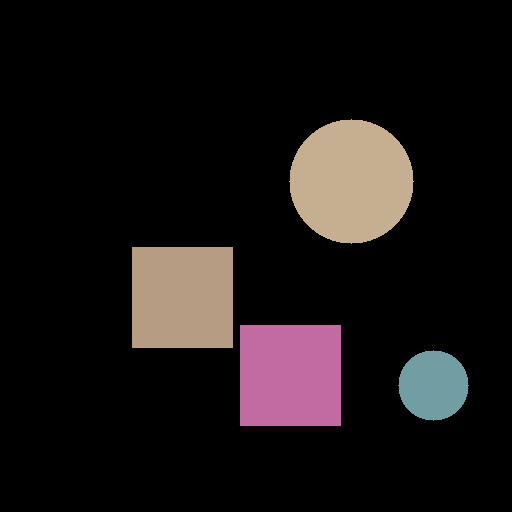circle: (289, 119, 413, 243), (398, 350, 468, 420)
square: (240, 325, 340, 425), (132, 247, 232, 347)
